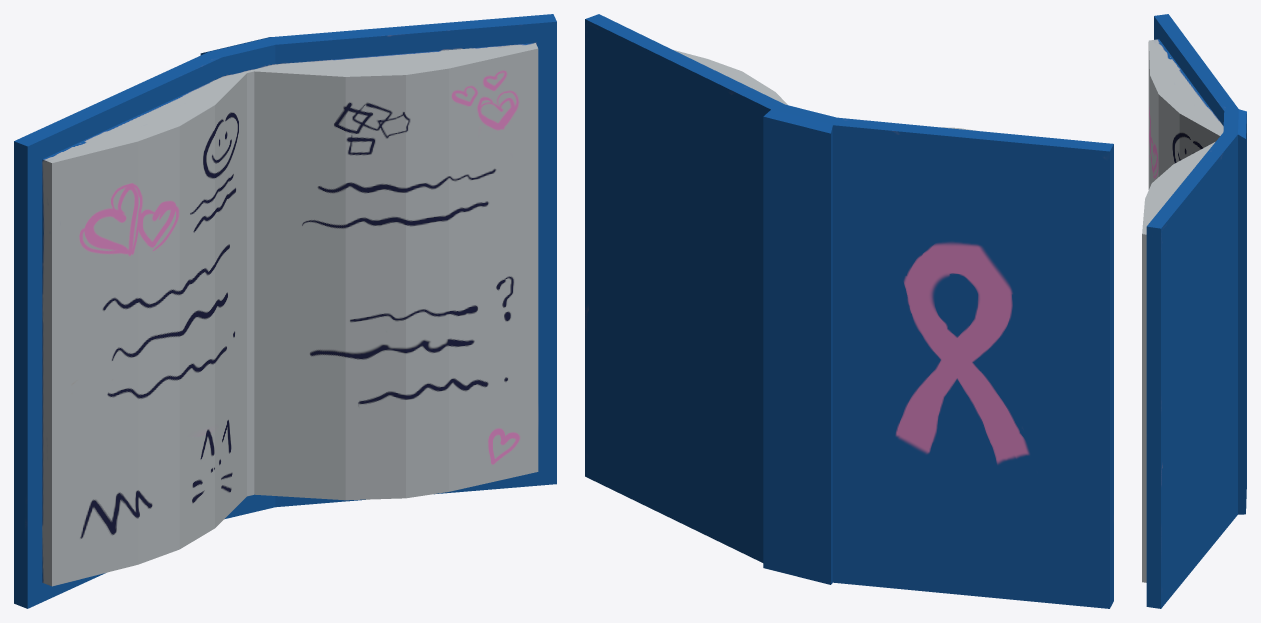
The model's file is Book_Main.fbx.
The picture shows the model from 3 angles, left to right: view 1: azimuth 30°, elevation 25°; view 2: azimuth 150°, elevation 25°; view 3: azimuth 270°, elevation 25°; orthographic projection. The views are drawn at different scales.
Parts seen in each view (by area): view 1: Book_Low; view 2: Book_Low; view 3: Book_Low.
Part boxes in pixels (x1,y1,x2,y2): Book_Low: (14, 14, 556, 608); Book_Low: (585, 14, 1113, 608); Book_Low: (1142, 14, 1246, 608).
Size of the model in its own units: 70.02 by 57.84 by 14.45.
1 material, 1 textured.
